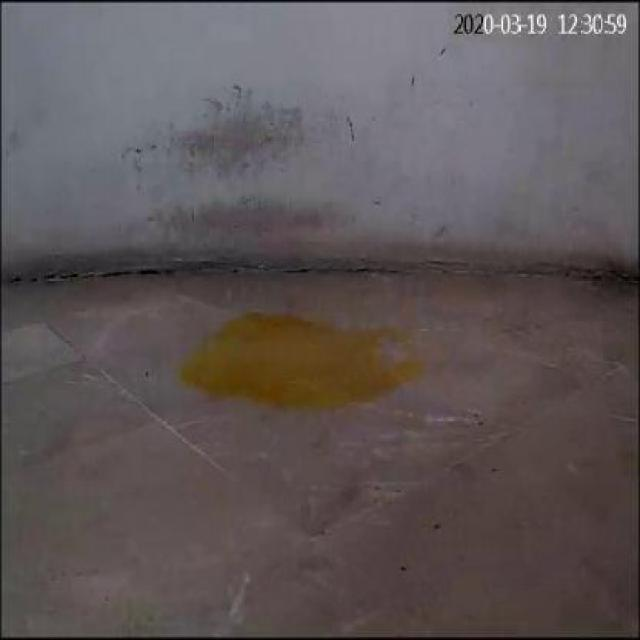spill: (178, 309, 416, 414)
